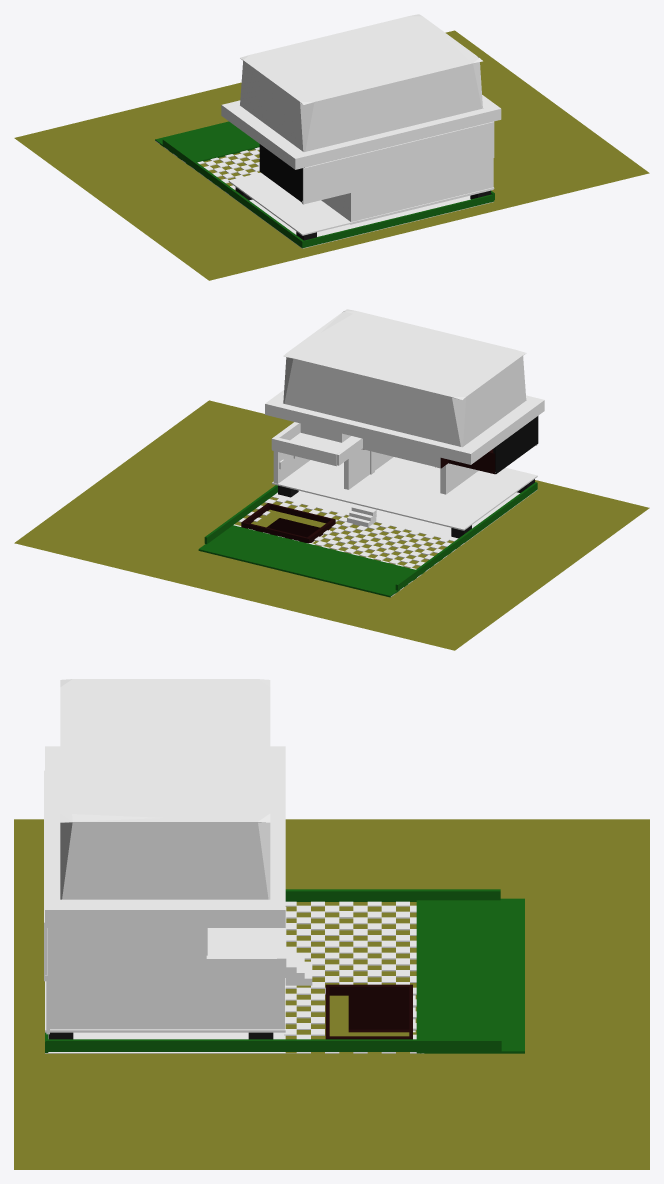
File: buildingRoof.obj
The picture shows the model from 3 angles, top to bottom: view 1: azimuth 30°, elevation 25°; view 2: azimuth 150°, elevation 25°; view 3: azimuth 270°, elevation 25°; orthographic projection. The views are drawn at different scales.
Parts seen in each view (by area): view 1: Plane, Cube.041, Cube.044, Cube.025, Cube.019, Cube, Cube.009, Cube.008, Cube.040, Cube.004, Cube.001, Cube.024; view 2: Plane, Cube.041, Cube.019, Cube, Cube.001, Cube.004, Cube.055, Cube.008, Cube.040, Cube.023, Cube.034, Cube.021 (+6 smaller); view 3: Plane, Cube.041, Cube, Cube.026, Cube.001, Cube.036, Cube.007, Cube.055, Cube.008, Cube.028, Cube.045, Cube.004 (+2 smaller).
Boxes of the visible parts, x1=… form: Plane: x1=14, y1=30, x2=649, y2=280; Cube.041: x1=221, y1=14, x2=501, y2=169; Cube.044: x1=302, y1=121, x2=494, y2=204; Cube.025: x1=350, y1=158, x2=493, y2=224; Cube.019: x1=228, y1=172, x2=494, y2=235; Cube: x1=155, y1=121, x2=259, y2=164; Cube.009: x1=302, y1=194, x2=494, y2=247; Cube.008: x1=162, y1=139, x2=304, y2=248; Cube.040: x1=259, y1=144, x2=304, y2=202; Cube.004: x1=229, y1=195, x2=493, y2=248; Cube.001: x1=155, y1=140, x2=259, y2=194; Cube.024: x1=321, y1=193, x2=350, y2=221; Plane: x1=14, y1=400, x2=649, y2=650; Cube.041: x1=265, y1=309, x2=544, y2=464; Cube.019: x1=272, y1=457, x2=537, y2=530; Cube: x1=198, y1=525, x2=423, y2=597; Cube.001: x1=233, y1=497, x2=464, y2=596; Cube.004: x1=272, y1=489, x2=537, y2=543; Cube.055: x1=241, y1=503, x2=335, y2=543; Cube.008: x1=395, y1=482, x2=537, y2=590; Cube.040: x1=493, y1=416, x2=538, y2=473; Cube.023: x1=344, y1=449, x2=393, y2=489; Cube.034: x1=271, y1=436, x2=339, y2=464; Cube.021: x1=362, y1=438, x2=440, y2=468; Plane: x1=14, y1=819, x2=649, y2=1169; Cube.041: x1=45, y1=679, x2=285, y2=927; Cube: x1=416, y1=898, x2=524, y2=1053; Cube.026: x1=50, y1=978, x2=284, y2=1029; Cube.001: x1=284, y1=901, x2=423, y2=1053; Cube.036: x1=47, y1=928, x2=206, y2=980; Cube.007: x1=45, y1=1039, x2=501, y2=1051; Cube.055: x1=325, y1=984, x2=412, y2=1039; Cube.008: x1=285, y1=889, x2=500, y2=901; Cube.028: x1=45, y1=928, x2=285, y2=977; Cube.045: x1=187, y1=955, x2=285, y2=976; Cube.004: x1=45, y1=1032, x2=285, y2=1053.
Size of what is drawn, in the model's own units: 180 by 70.3 by 138.
